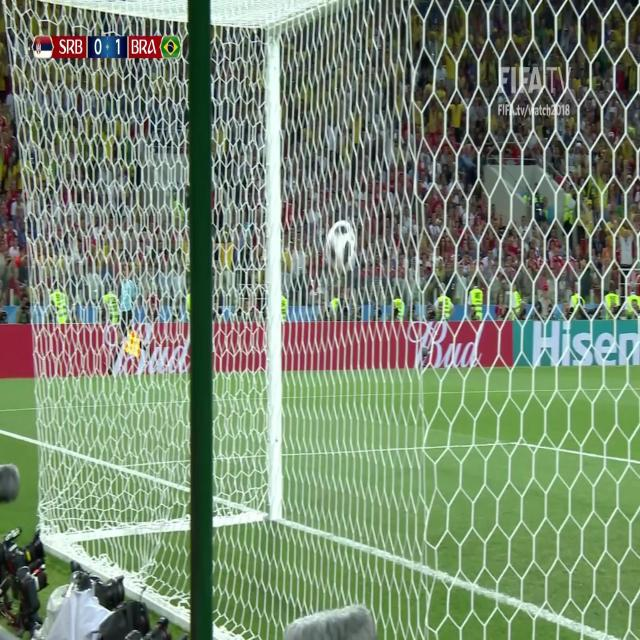ball: (324, 210, 356, 282)
